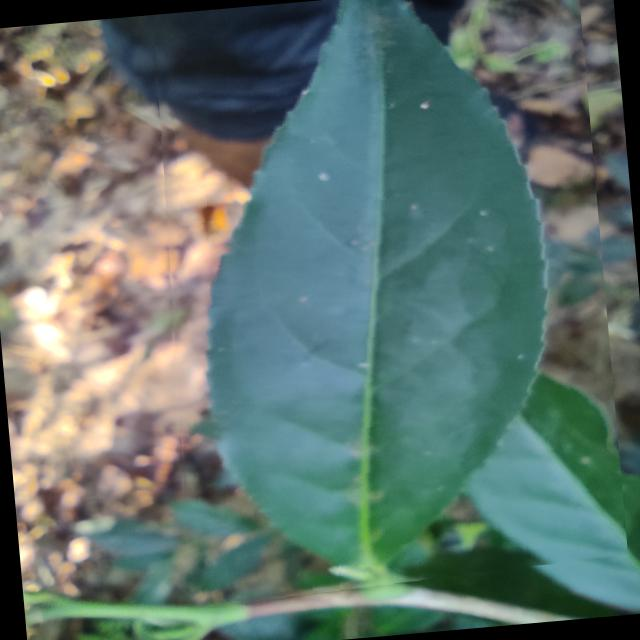Category D(7+ days, Not for Tea): (140, 0, 629, 607)
